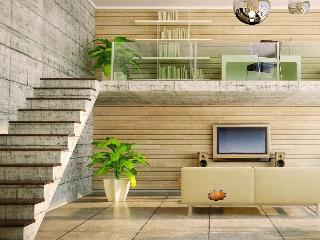potato: (204, 187, 228, 205)
